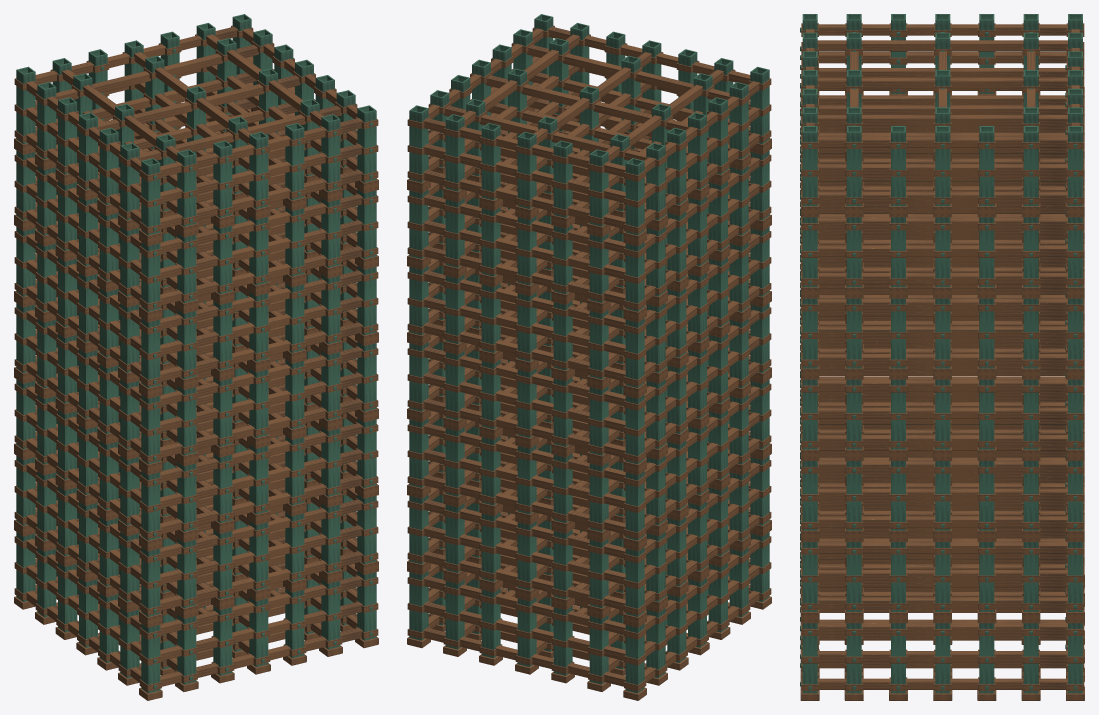
The picture shows the model from 3 angles, left to right: view 1: azimuth 30°, elevation 25°; view 2: azimuth 150°, elevation 25°; view 3: azimuth 270°, elevation 25°; orthographic projection. The views are drawn at different scales.
Parts seen in each view (by area): view 1: Tier 6 internal tie 0-0-0-0.84, Tier 6 internal tie 0-0.56-0-0.84, Tier 6 internal tie 0--0.56-0-0.84, Tier 5 tie 0-0-0.5, Tier 1 tie 0-0-0.5, Tier 6 tie 0-0-0.84, Tier 0 tie 0-0-0.5, Tier 4 tie 0-0-0.16, Tier 0 tie 0-0-0.16, Tier 3 tie 0-0-0.16, Tier 4 tie 0-0-0.5, Tier 5 tie 0-0-0.16 (+140 smaller); view 2: Tier 6 internal tie 0-0-0-0.84, Tier 6 internal tie 0--0.56-0-0.84, Tier 6 internal tie 0-0.56-0-0.84, Tier 5 tie 2-0-0.5, Tier 1 tie 2-0-0.5, Tier 6 tie 2-0-0.84, Tier 0 tie 2-0-0.5, Tier 4 tie 2-0-0.16, Tier 0 tie 2-0-0.16, Tier 3 tie 2-0-0.16, Tier 4 tie 2-0-0.5, Tier 5 tie 2-0-0.16 (+140 smaller); view 3: Tier 6 internal tie 1--0.56-0-0.84, Tier 6 internal tie 1-0-0-0.84, Tier 6 internal tie 1-0.56-0-0.84, Tier 6 internal tie 1--0.56-0-0.16, Tier 6 tie 1-0-0.16, Tier 0 tie 1-0-0.84, Tier 1 tie 1-0-0.16, Tier 1 tie 1-0-0.84, Tier 2 tie 1-0-0.16, Tier 4 tie 1-0-0.5, Tier 5 tie 1-0-0.5, Tier 6 internal tie 1-0-0-0.5 (+125 smaller).
Boxes of the visible parts, <box> form: Tier 6 internal tie 0-0-0-0.84: <box>98,75,300,130</box>; Tier 6 internal tie 0-0.56-0-0.84: <box>56,45,258,99</box>; Tier 6 internal tie 0--0.56-0-0.84: <box>139,105,341,160</box>; Tier 5 tie 0-0-0.5: <box>160,220,362,279</box>; Tier 1 tie 0-0-0.5: <box>160,525,362,584</box>; Tier 6 tie 0-0-0.84: <box>160,118,362,176</box>; Tier 0 tie 0-0-0.5: <box>160,601,362,660</box>; Tier 4 tie 0-0-0.16: <box>160,322,362,381</box>; Tier 0 tie 0-0-0.16: <box>160,627,362,686</box>; Tier 3 tie 0-0-0.16: <box>160,398,362,457</box>; Tier 4 tie 0-0-0.5: <box>160,296,362,355</box>; Tier 5 tie 0-0-0.16: <box>160,246,362,305</box>; Tier 6 internal tie 0-0-0-0.84: <box>485,75,687,130</box>; Tier 6 internal tie 0--0.56-0-0.84: <box>527,45,729,99</box>; Tier 6 internal tie 0-0.56-0-0.84: <box>444,105,646,160</box>; Tier 5 tie 2-0-0.5: <box>423,220,625,279</box>; Tier 1 tie 2-0-0.5: <box>423,525,625,584</box>; Tier 6 tie 2-0-0.84: <box>423,118,625,176</box>; Tier 0 tie 2-0-0.5: <box>423,601,625,660</box>; Tier 4 tie 2-0-0.16: <box>423,322,625,381</box>; Tier 0 tie 2-0-0.16: <box>423,627,625,686</box>; Tier 3 tie 2-0-0.16: <box>423,398,625,457</box>; Tier 4 tie 2-0-0.5: <box>423,296,625,355</box>; Tier 5 tie 2-0-0.16: <box>423,246,625,305</box>; Tier 6 internal tie 1--0.56-0-0.84: <box>817,40,1067,51</box>; Tier 6 internal tie 1-0-0-0.84: <box>817,77,1067,88</box>; Tier 6 internal tie 1-0.56-0-0.84: <box>817,115,1067,126</box>; Tier 6 internal tie 1--0.56-0-0.16: <box>819,95,1066,105</box>; Tier 6 tie 1-0-0.16: <box>817,191,1067,202</box>; Tier 0 tie 1-0-0.84: <box>817,623,1067,634</box>; Tier 1 tie 1-0-0.16: <box>817,597,1067,608</box>; Tier 1 tie 1-0-0.84: <box>817,542,1067,553</box>; Tier 2 tie 1-0-0.16: <box>817,516,1067,527</box>; Tier 4 tie 1-0-0.5: <box>817,326,1067,337</box>; Tier 5 tie 1-0-0.5: <box>817,245,1067,256</box>; Tier 6 internal tie 1-0-0-0.5: <box>818,105,1067,114</box>.
Size of the model in its own units: 1.8 by 3.97 by 1.8.
2 materials, 2 textured.
